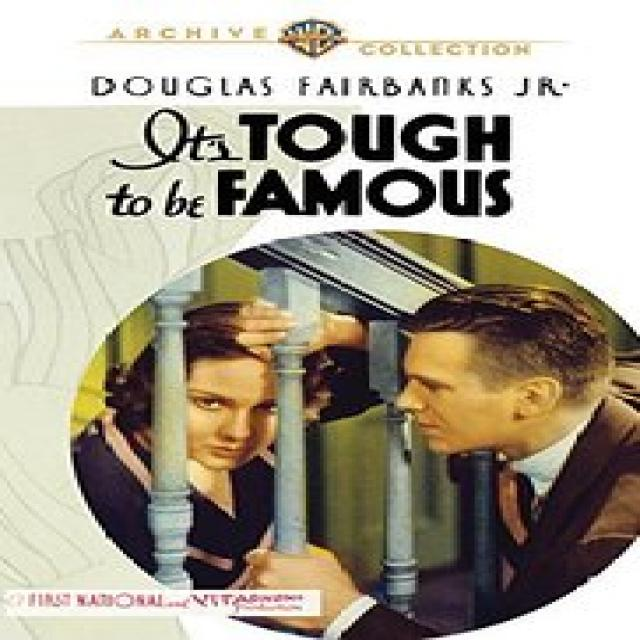movie-judul: (91, 104, 528, 228)
picture: (88, 283, 633, 588)
